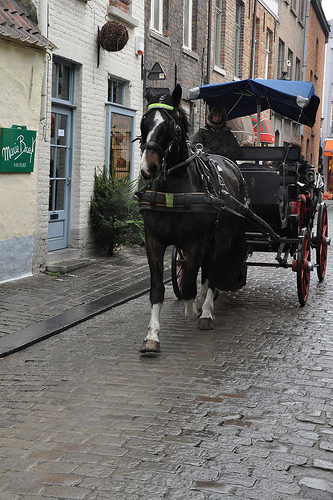horse: (134, 84, 251, 355)
